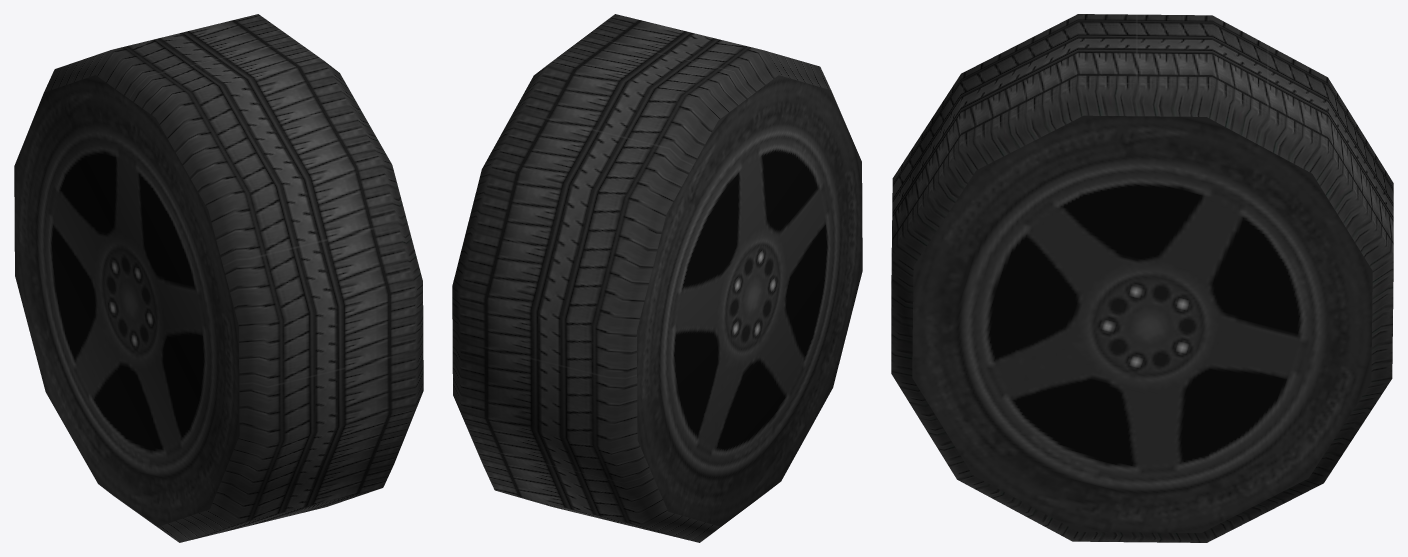
The model's file is WheelHighEnd.FBX.
The picture shows the model from 3 angles, left to right: view 1: azimuth 30°, elevation 25°; view 2: azimuth 150°, elevation 25°; view 3: azimuth 270°, elevation 25°; orthographic projection. The views are drawn at different scales.
Parts seen in each view (by area): view 1: wheelHighEnd001; view 2: wheelHighEnd001; view 3: wheelHighEnd001.
Boxes of the visible parts, left/top/right/bottom form: wheelHighEnd001: left=14, top=14, right=423, bottom=542; wheelHighEnd001: left=452, top=14, right=862, bottom=542; wheelHighEnd001: left=891, top=14, right=1393, bottom=542.
Bounding box in the file's own units: 31.62 × 73.12 × 73.12.
